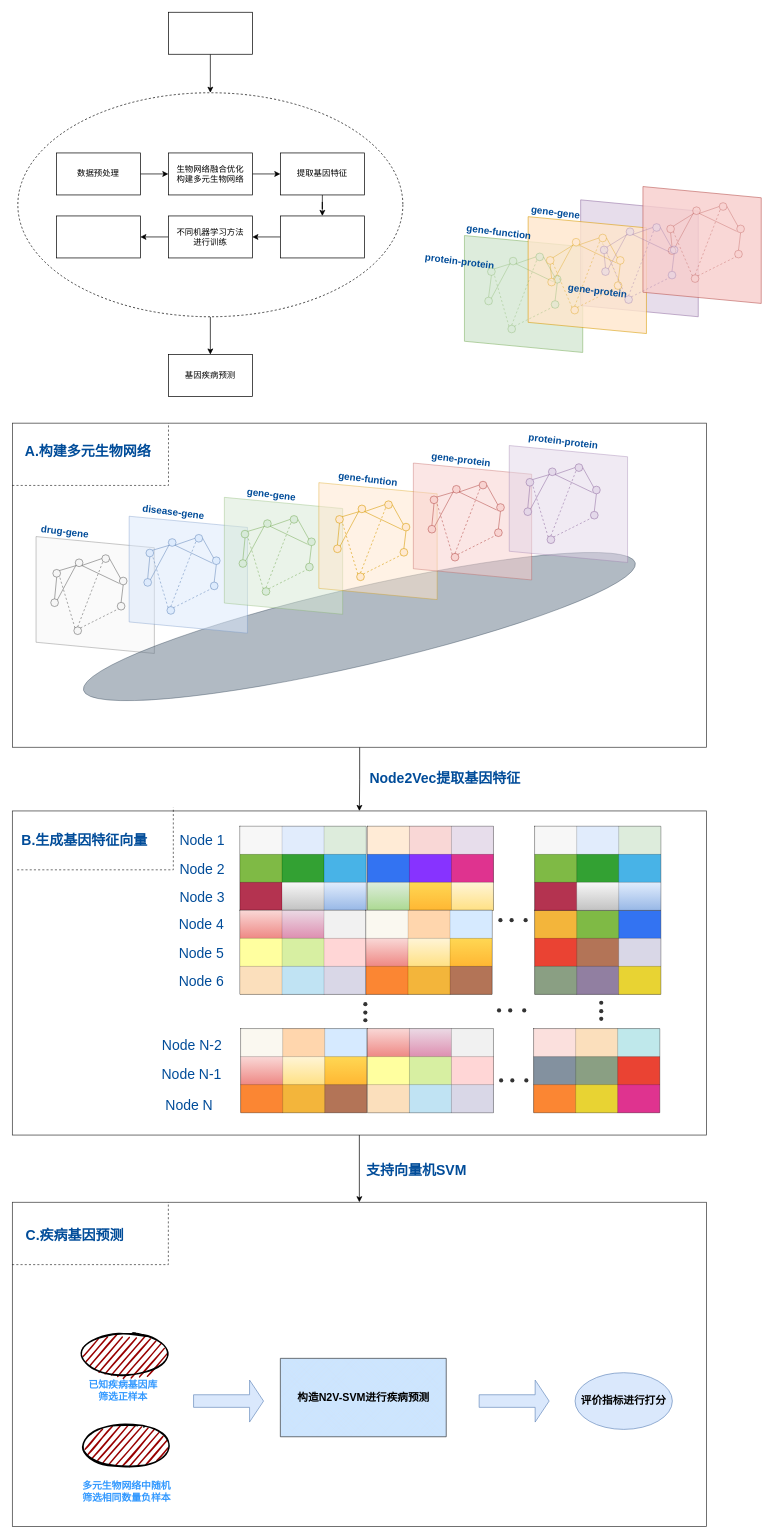
The diagram is 774 pixels wide and 1539 high, and some of its shapes have lost their labels. The centre of each missing label's shape, as x and y in pixels:
"分类预测" belongs at (98,236).
"原始生物网络" belongs at (210,33).
"多元生物网络" belongs at (359,626).
"筛选疾病基因" belongs at (322,236).
